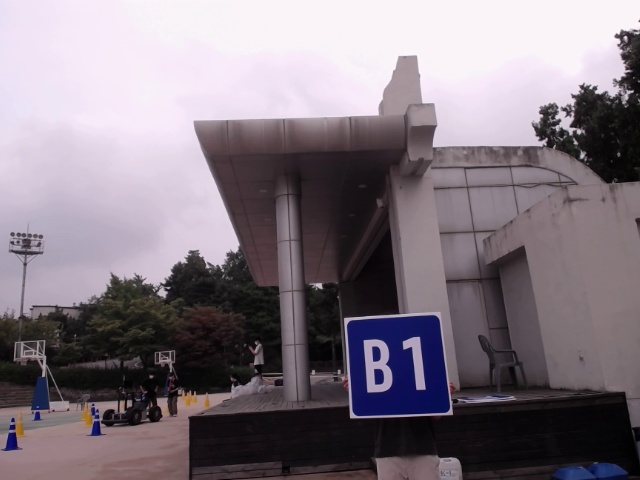delivery_b1: (346, 311, 453, 418)
